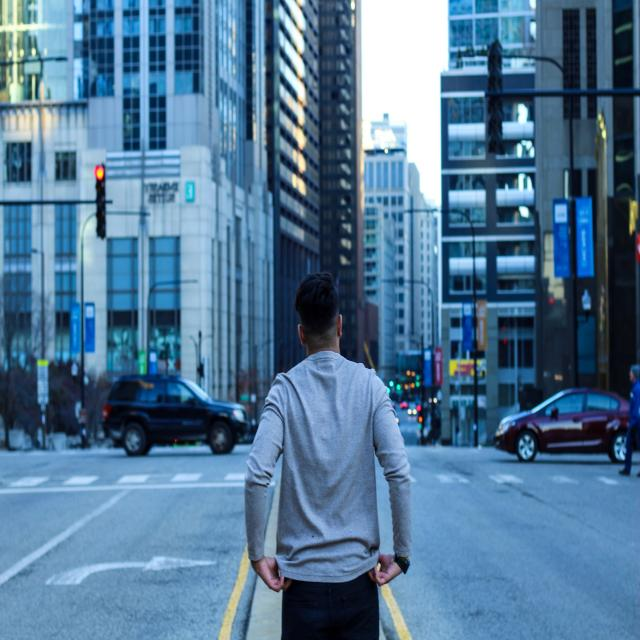adult: (245, 275, 415, 640), (618, 364, 640, 476)
